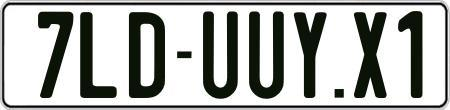1: (397, 11, 426, 98)
7: (38, 10, 77, 98)
D: (127, 12, 167, 104)
L: (77, 12, 118, 104)
U: (203, 9, 242, 103), (248, 9, 286, 99)
X: (351, 12, 385, 102)
Y: (293, 12, 326, 103)
